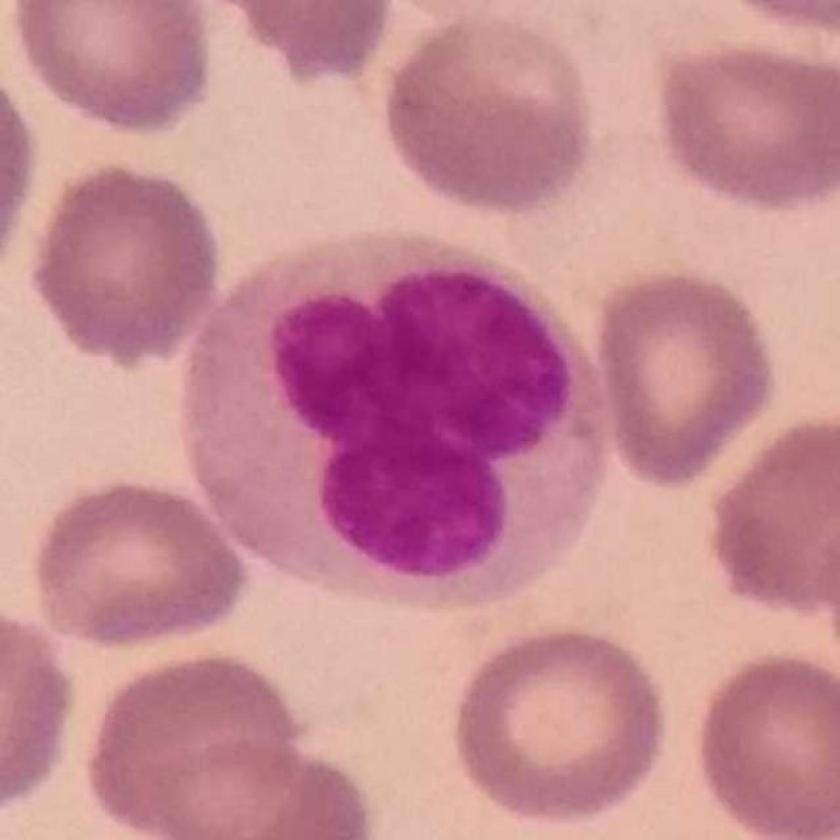monocyte: (181, 228, 624, 617)
